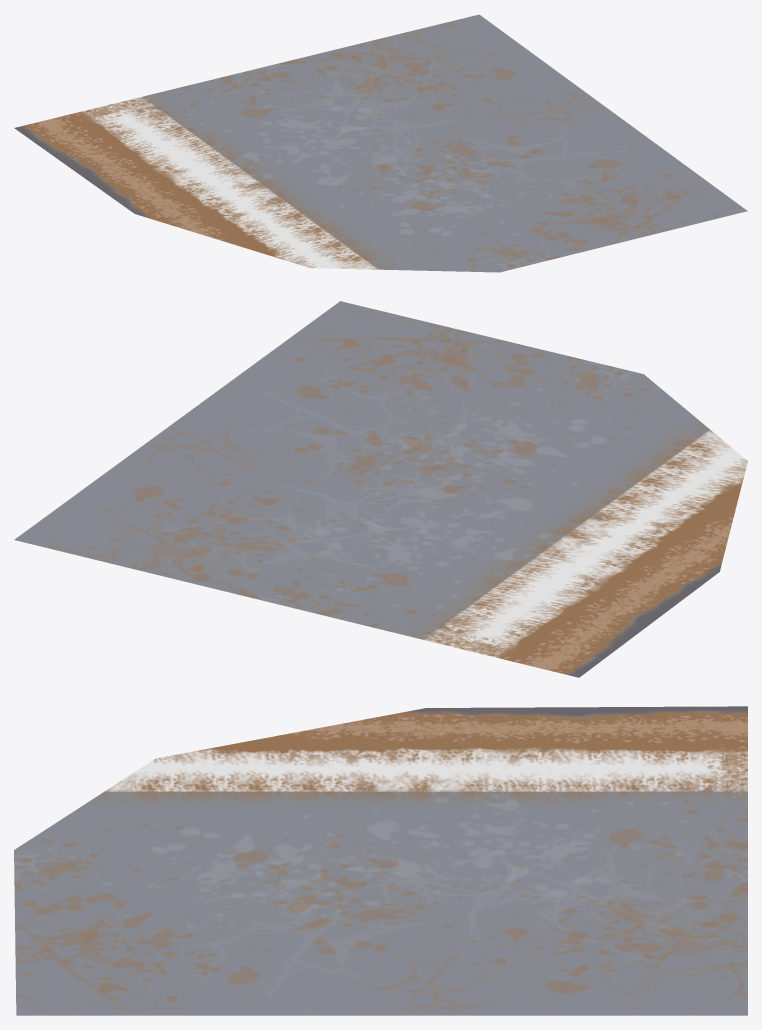
File: Sidewalk_Corner_01A.fbx
The picture shows the model from 3 angles, top to bottom: view 1: azimuth 30°, elevation 25°; view 2: azimuth 150°, elevation 25°; view 3: azimuth 270°, elevation 25°; orthographic projection. The views are drawn at different scales.
Parts seen in each view (by area): view 1: Sidewalk_Corner_01A; view 2: Sidewalk_Corner_01A; view 3: Sidewalk_Corner_01A.
Boxes of the visible parts, x1=… form: Sidewalk_Corner_01A: x1=14, y1=14, x2=747, y2=272; Sidewalk_Corner_01A: x1=14, y1=301, x2=747, y2=677; Sidewalk_Corner_01A: x1=14, y1=706, x2=747, y2=1015.
Size of the model in its own units: 208 by 4.96e-05 by 209.
